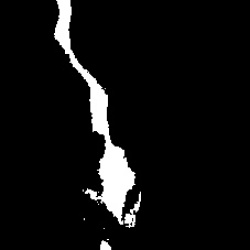crack: (54, 2, 142, 227)
pinhole: (80, 211, 91, 226)
